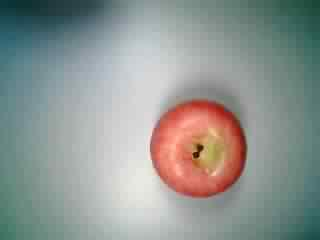apple: (146, 93, 252, 197)
